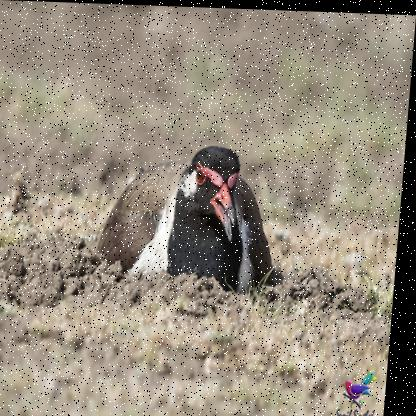Burung: (98, 141, 283, 289)
